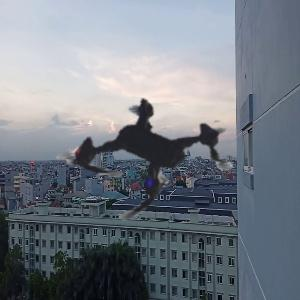drone: (3, 3, 299, 299)
